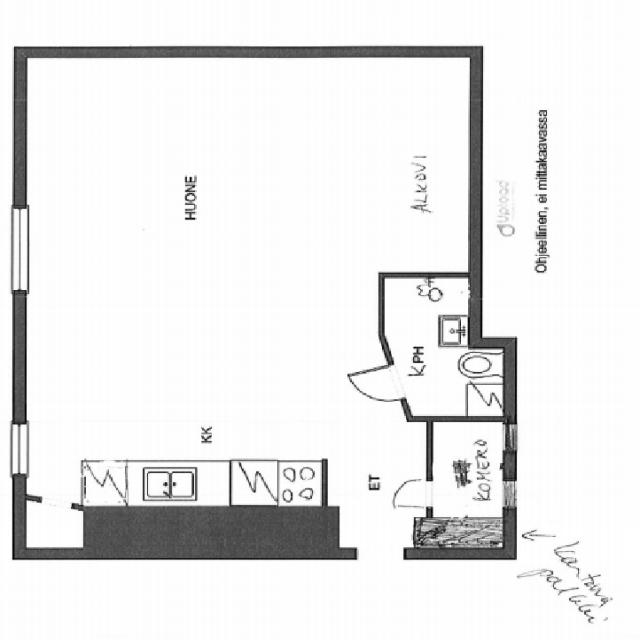door: (336, 352, 414, 406), (386, 474, 441, 514)
window: (3, 200, 37, 298), (7, 420, 32, 480), (499, 416, 524, 461), (497, 475, 523, 514)
zone: (19, 53, 386, 510), (388, 276, 512, 424), (428, 418, 512, 524), (416, 513, 511, 553), (20, 502, 88, 555)
